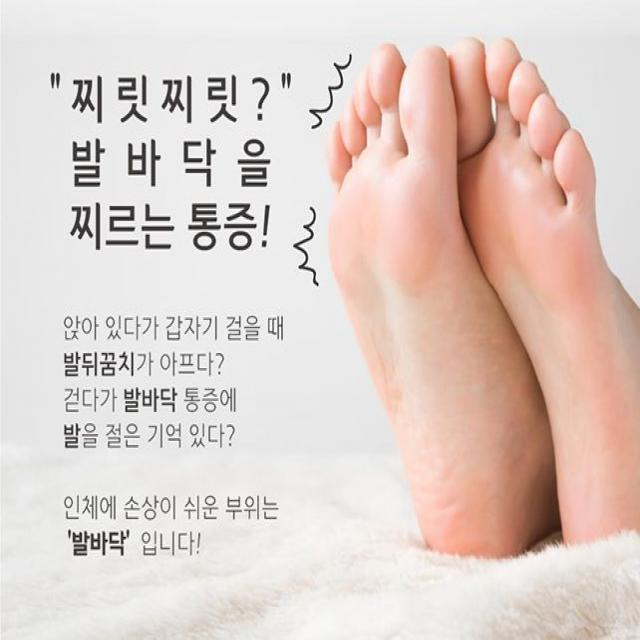Barefoots: (318, 35, 516, 588), (446, 26, 626, 554)
